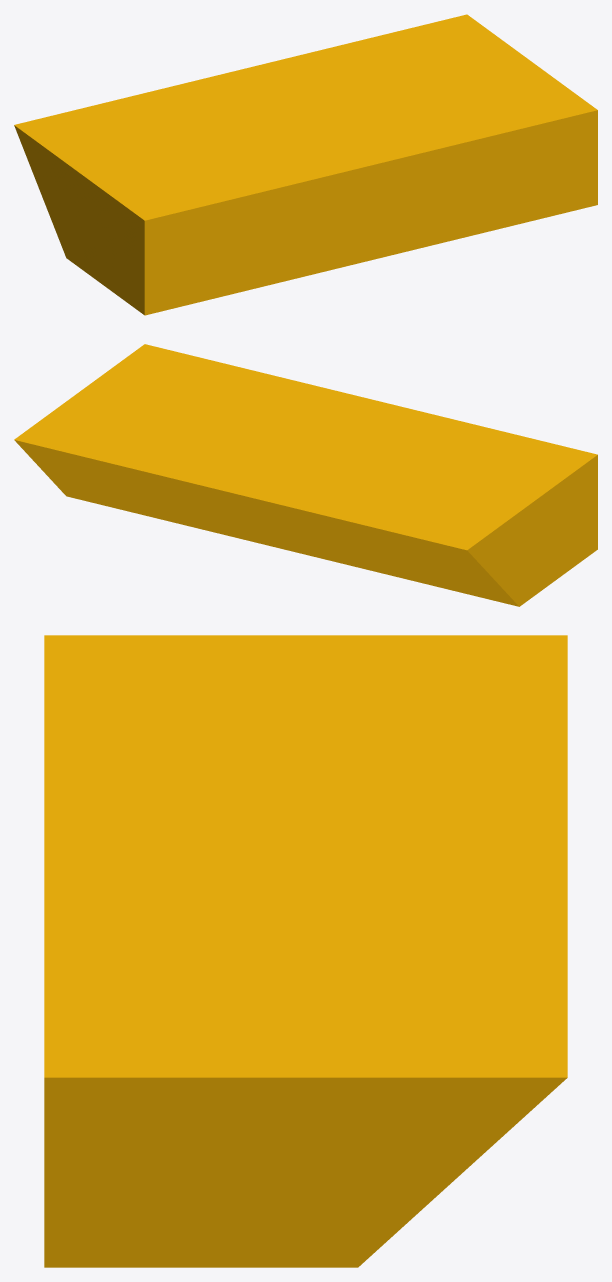
The model's file is fender_corner_interface_1x2.dae.
The picture shows the model from 3 angles, top to bottom: view 1: azimuth 30°, elevation 25°; view 2: azimuth 150°, elevation 25°; view 3: azimuth 270°, elevation 25°; orthographic projection. The views are drawn at different scales.
Visible parts, largest first — view 1: Cube; view 2: Cube; view 3: Cube.
Boxes of the visible parts, x1,y1,x2,y2 form: Cube: (14,14,597,315); Cube: (14,344,597,606); Cube: (44,635,567,1267).
Bounding box in the file's own units: 0.5 × 0.25 × 0.1.
